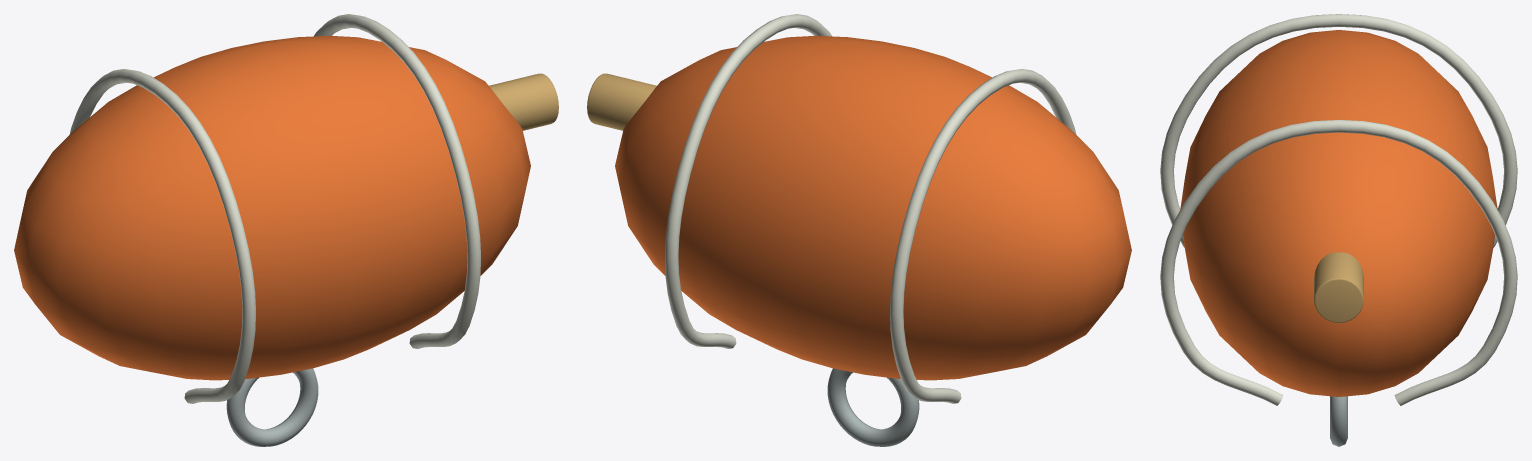
Rendered from float_bag.glb.
3 renders of one model, left to right at view 1: azimuth 30°, elevation 25°; view 2: azimuth 150°, elevation 25°; view 3: azimuth 270°, elevation 25°, orthographic. The views are drawn at different scales.
Visible parts, largest first — view 1: Inflatable woven bag, Webbing seam, Webbing seam.001, Lift eye, Inflation valve; view 2: Inflatable woven bag, Webbing seam, Webbing seam.001, Lift eye, Inflation valve; view 3: Inflatable woven bag, Webbing seam.001, Webbing seam, Inflation valve, Lift eye.
Boxes of the visible parts, <box> form: Inflatable woven bag: <box>14,35,530,380</box>; Webbing seam: <box>69,69,255,403</box>; Webbing seam.001: <box>314,14,480,348</box>; Lift eye: <box>226,368,318,446</box>; Inflation valve: <box>489,73,558,130</box>; Inflatable woven bag: <box>615,35,1131,380</box>; Webbing seam: <box>890,69,1076,403</box>; Webbing seam.001: <box>665,14,831,348</box>; Lift eye: <box>827,368,919,446</box>; Inflation valve: <box>587,73,656,130</box>; Inflatable woven bag: <box>1180,30,1497,396</box>; Webbing seam.001: <box>1160,119,1517,405</box>; Webbing seam: <box>1160,14,1517,248</box>; Inflation valve: <box>1314,252,1363,322</box>; Lift eye: <box>1330,396,1347,446</box>.
Size of the model in its own units: 0.254 by 0.182 by 0.1571.
